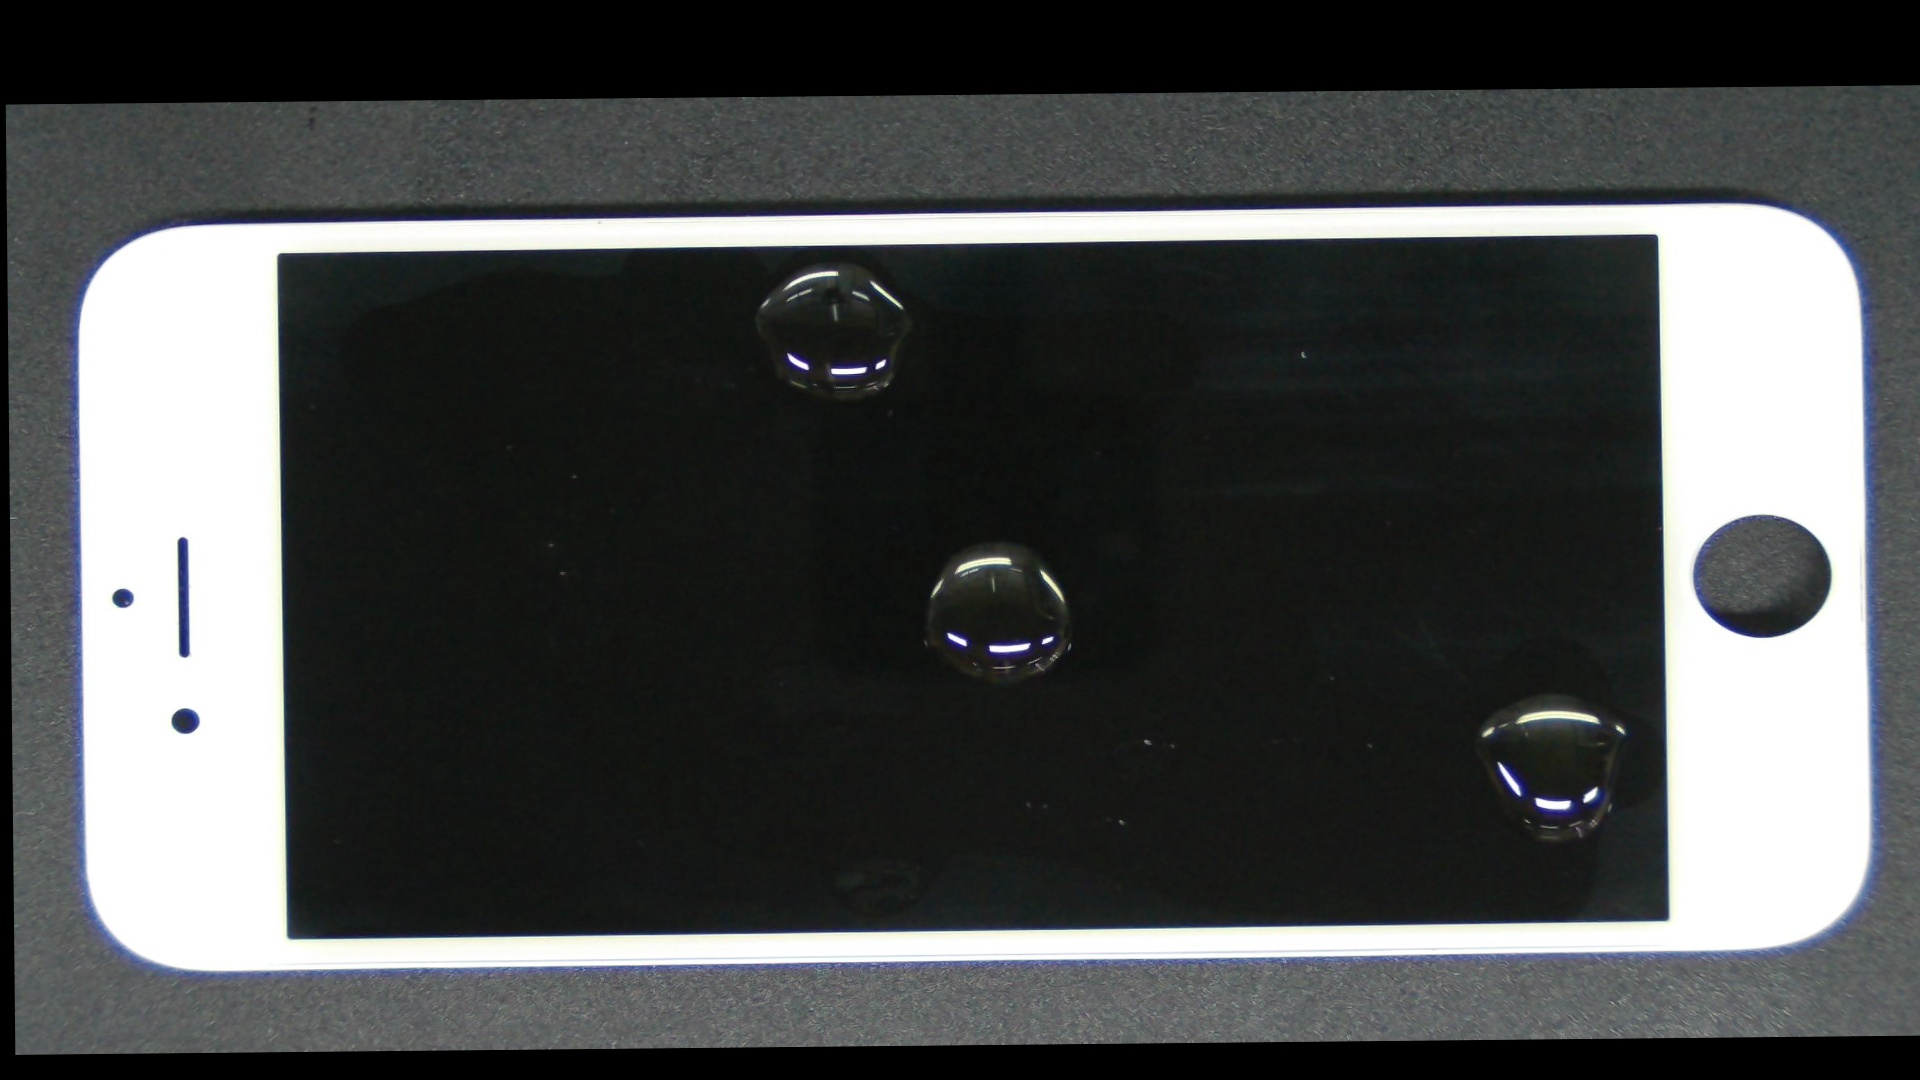oil: (777, 386, 1920, 1002), (505, 311, 1502, 767), (425, 174, 1262, 348)
